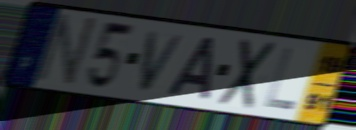5: (85, 19, 135, 92)
A: (164, 35, 219, 103)
L: (262, 46, 297, 113)
N: (32, 12, 101, 91)
V: (136, 30, 189, 95)
X: (215, 36, 280, 111)
